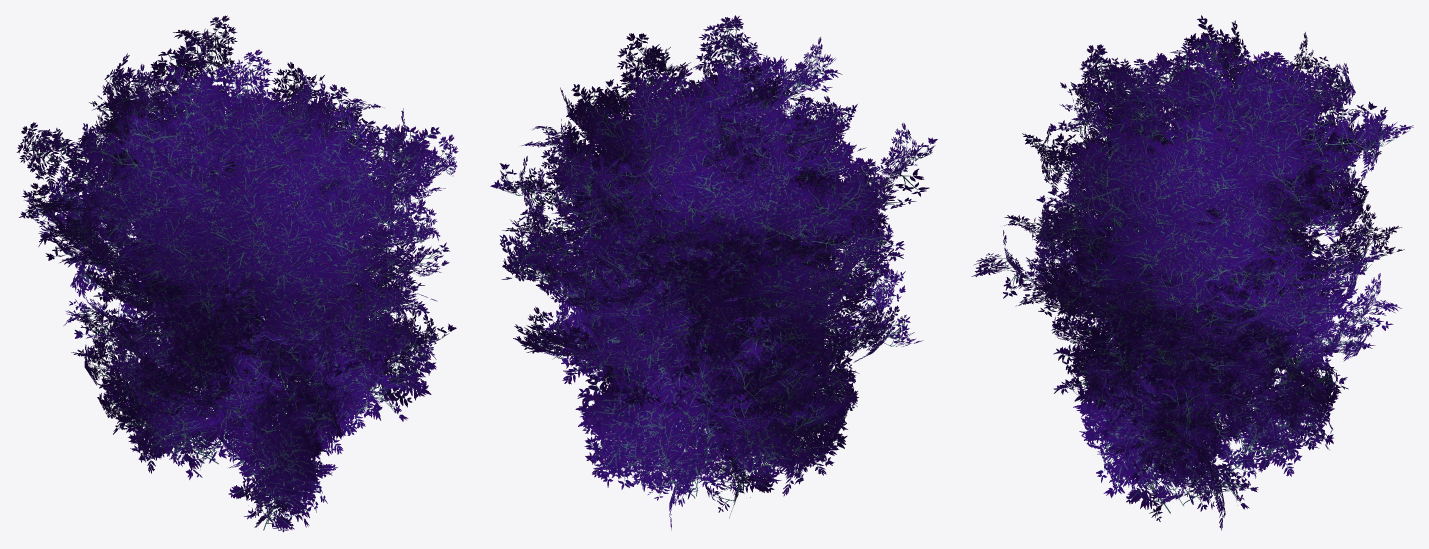
3 views of the same model, side by side, from view 1: azimuth 30°, elevation 25°; view 2: azimuth 150°, elevation 25°; view 3: azimuth 270°, elevation 25° (orthographic). The views are drawn at different scales.
Parts seen in each view (by area): view 1: SM_GF_Ash_Canopy_01_LOD0; view 2: SM_GF_Ash_Canopy_01_LOD0; view 3: SM_GF_Ash_Canopy_01_LOD0.
Boxes of the visible parts, x1,y1,x2,y2 form: SM_GF_Ash_Canopy_01_LOD0: [16, 15, 458, 532]; SM_GF_Ash_Canopy_01_LOD0: [490, 15, 937, 530]; SM_GF_Ash_Canopy_01_LOD0: [971, 15, 1413, 530].
Size of the model in its own units: 11.46 by 12.95 by 11.33.
Materials: 1 (1 with a texture image).
